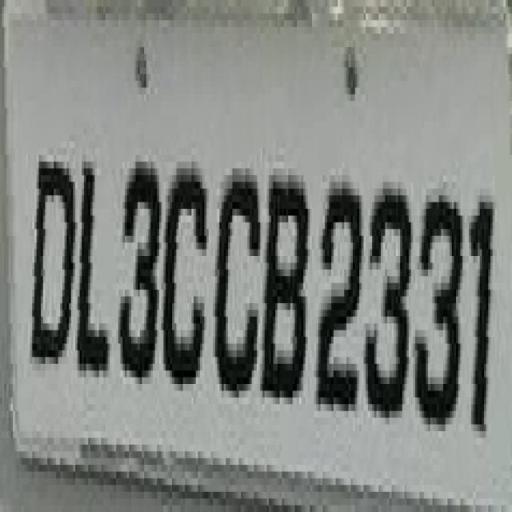number plate: (17, 26, 512, 485)
